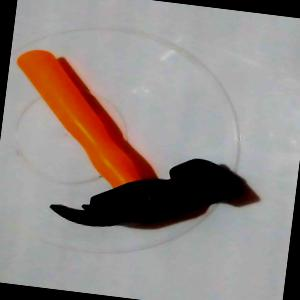martelo: (0, 46, 260, 243)
